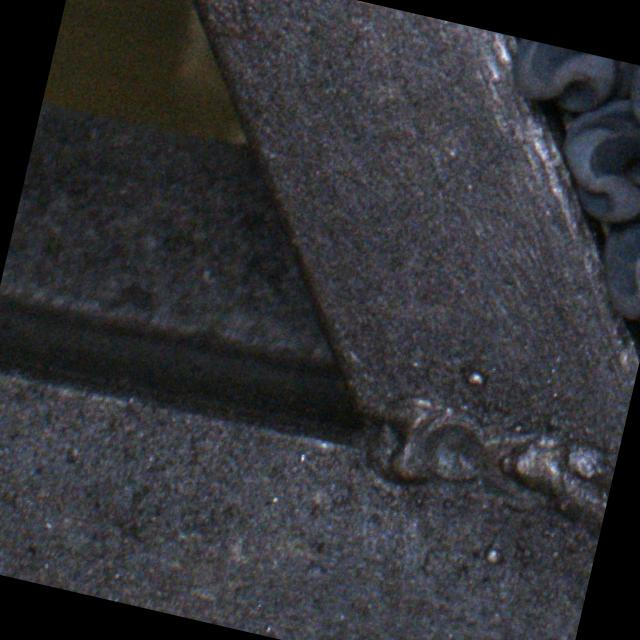tool_b: (548, 86, 640, 230), (503, 38, 638, 124), (587, 201, 640, 323)
